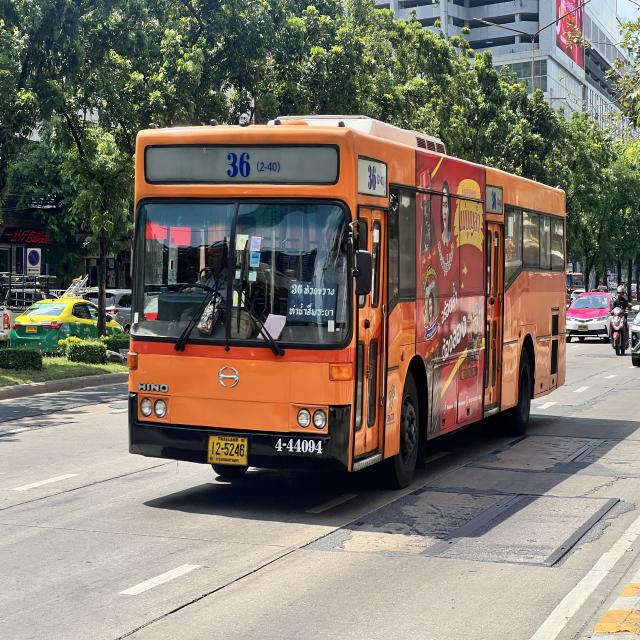BMTA-bus: (126, 115, 569, 488)
Bus-Line-Number: (221, 148, 286, 181)
Destination-Sign-Normal: (284, 280, 340, 323)
